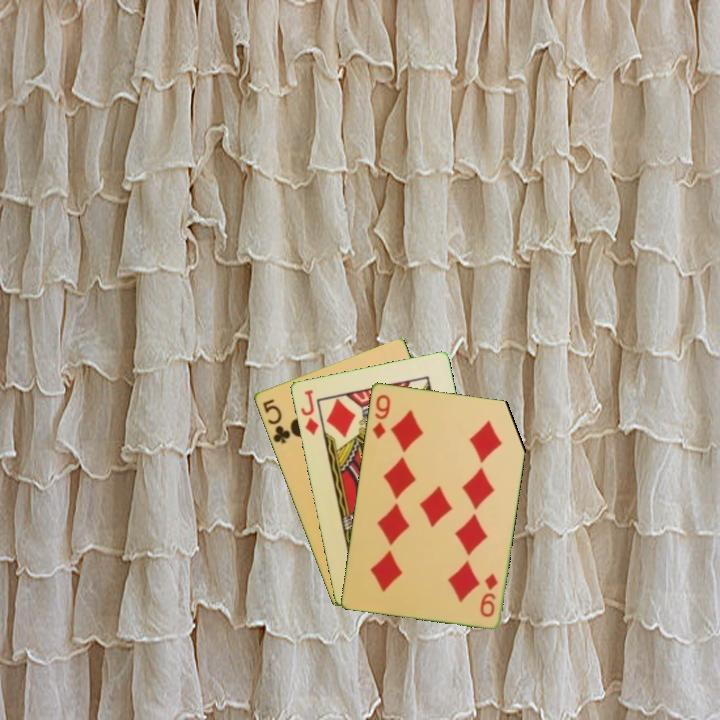5c: (259, 395, 293, 446)
9d: (368, 391, 393, 441), (476, 569, 500, 620)
Jd: (297, 386, 321, 437)
